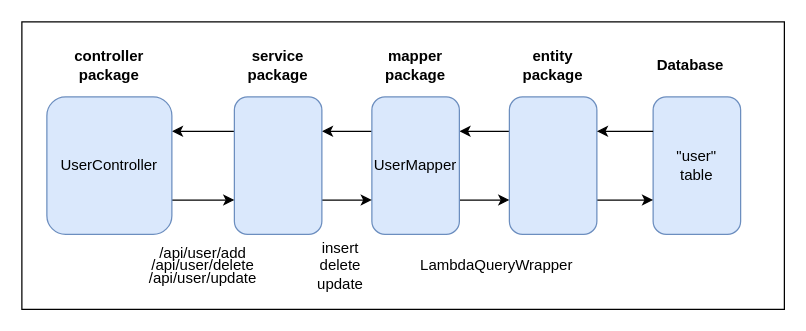
Some shapes in this 806 by 331 pixel diagram are drawn without their labels. Each missing label, with the centre of its shape:
"User" goes at [552,165].
"UserService" goes at [277,165].
